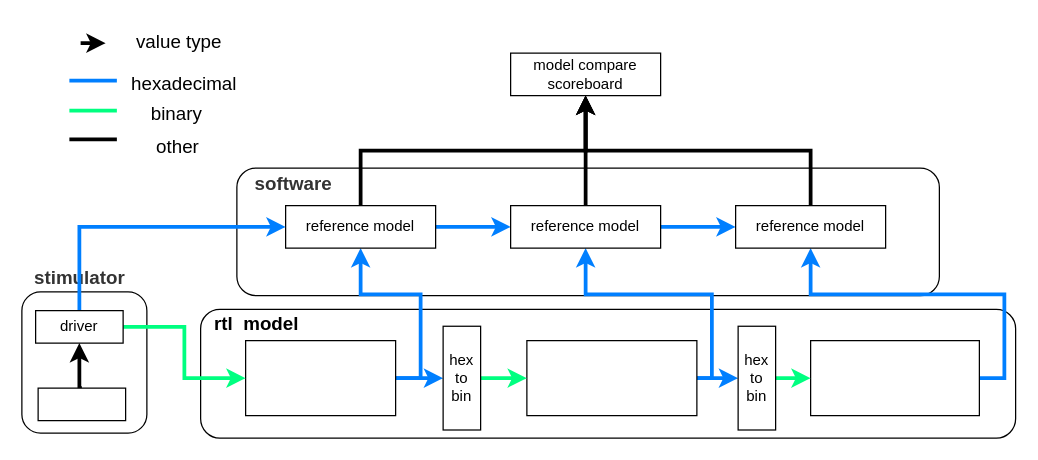
The diagram is 1038 pixels wide and 460 high, and some of its shapes have lost their labels. The centre of each missing label's shape, as x and y in pixels:
"fitness_cal_model" belongs at (320,377).
"monitor" belongs at (81,404).
"population_upda_model" belongs at (894,377).
"velocity_upda" belongs at (611,377).
